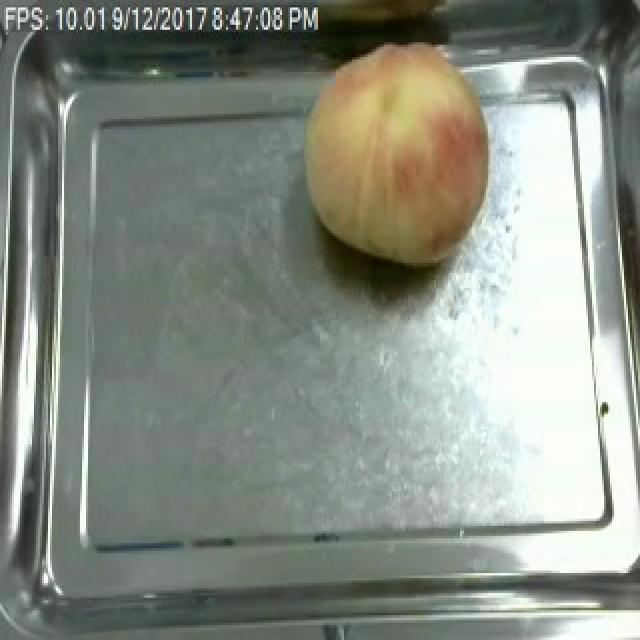Fruit: (292, 32, 504, 276)
